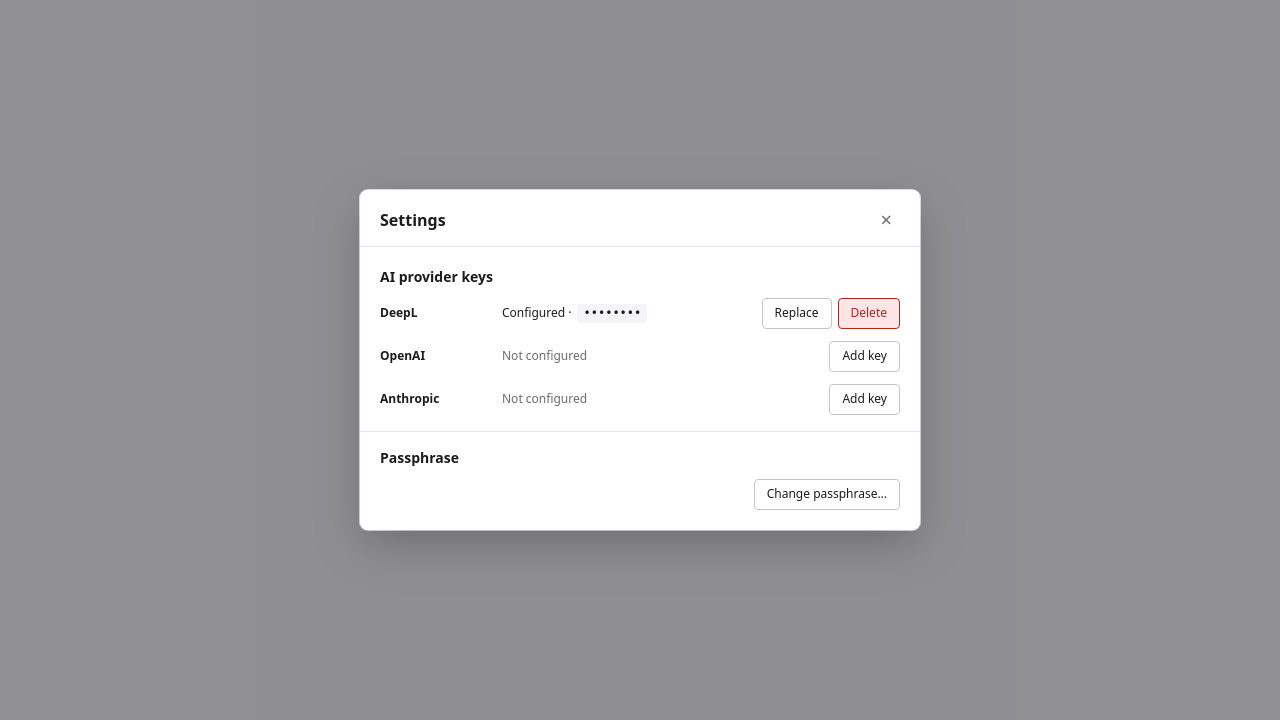
Test case: SettingsModal › shows an inline error when the current passphrase is wrong
expect the element named "DeepL: configured" is shown: met, box x1=502 y1=304 x2=647 y2=323
Click the button "Change passphrase…": point(827, 495) x1=754 y1=479 x2=900 y2=510
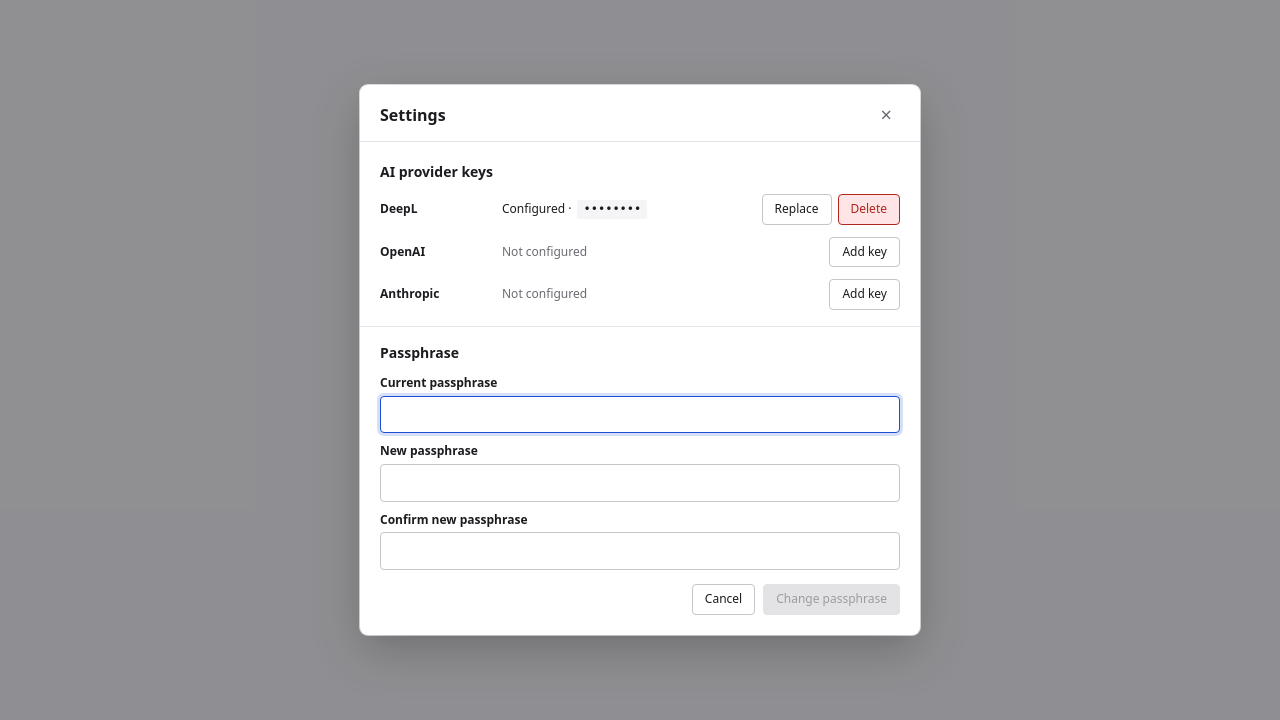
In the password field labelled "Current passphrase": point(640, 414) x1=380 y1=396 x2=900 y2=433, type "wrong-pp"
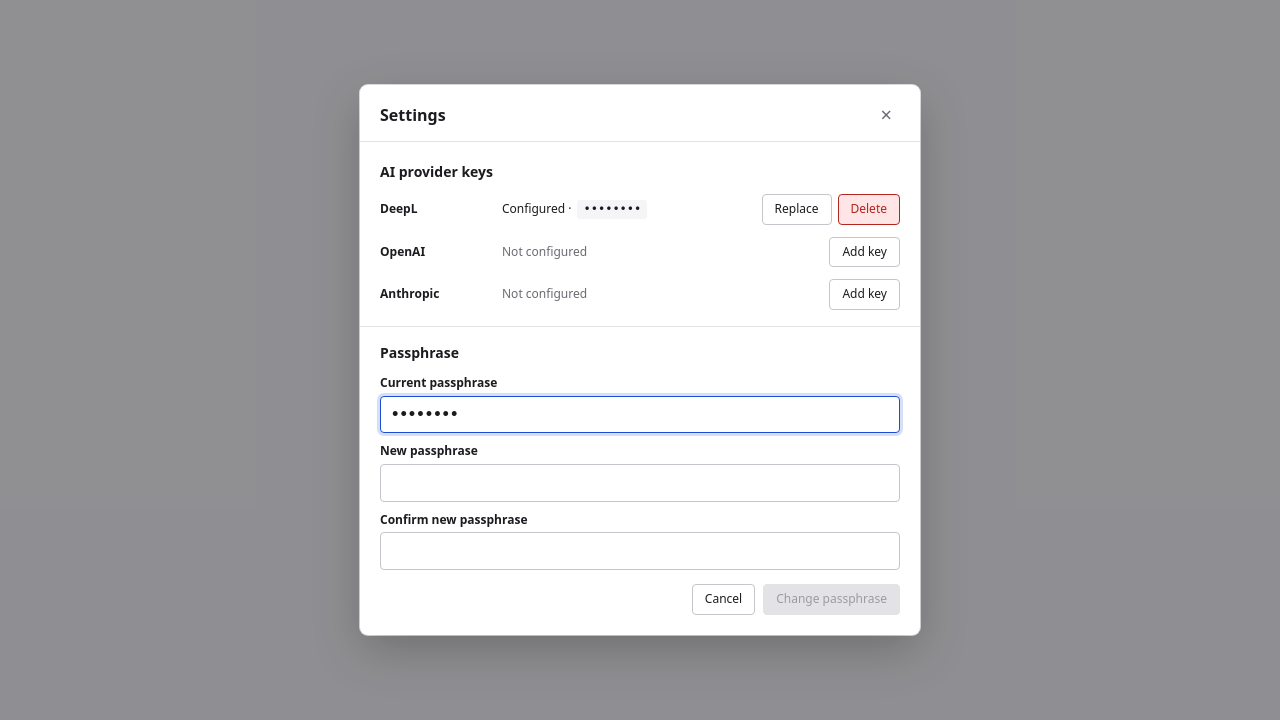
In the password field labelled "New passphrase": point(640, 483) x1=380 y1=464 x2=900 y2=502, type "new-pp"
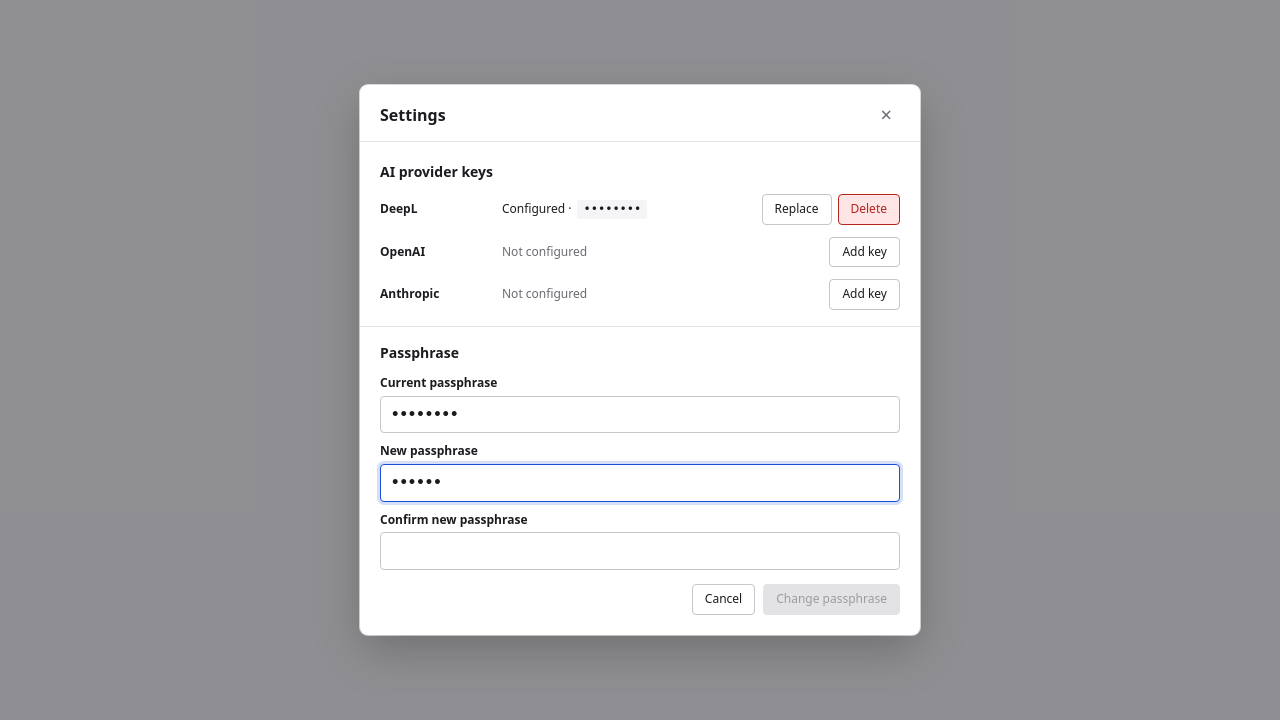
In the password field labelled "Confirm new passphrase": point(640, 551) x1=380 y1=532 x2=900 y2=570, type "new-pp"
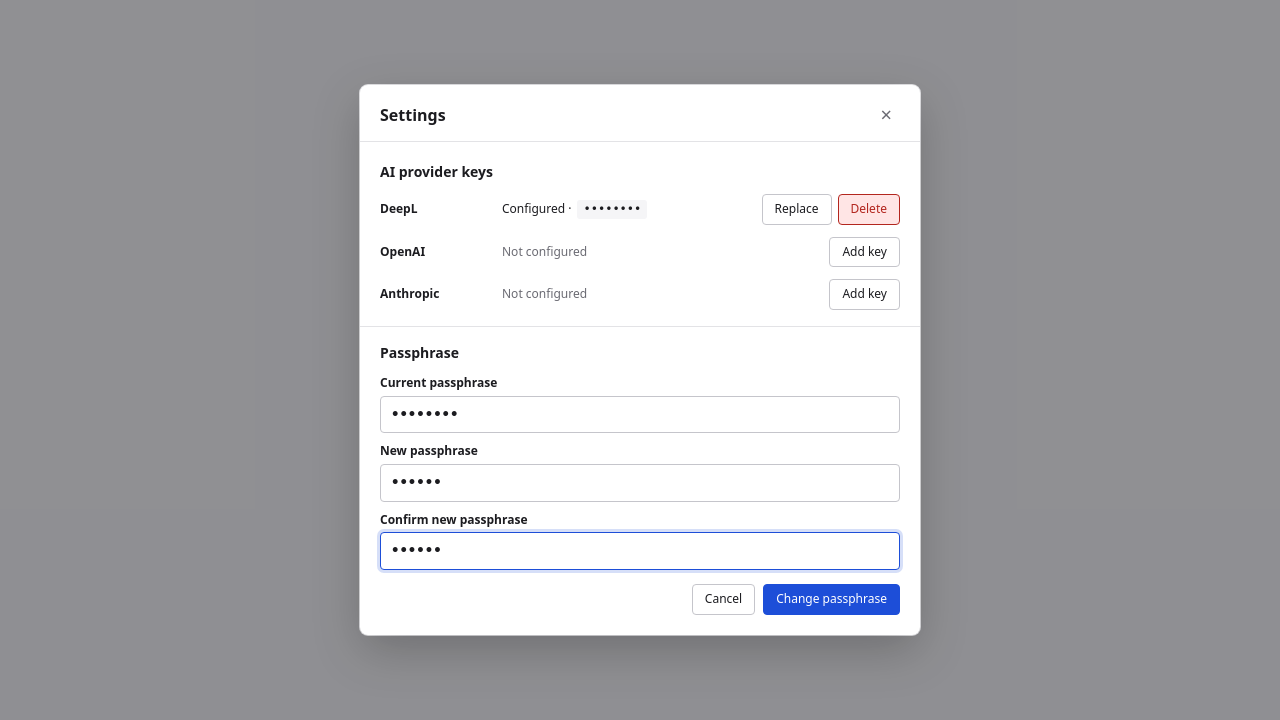
Click the button "Change passphrase": point(832, 599) x1=763 y1=584 x2=900 y2=615
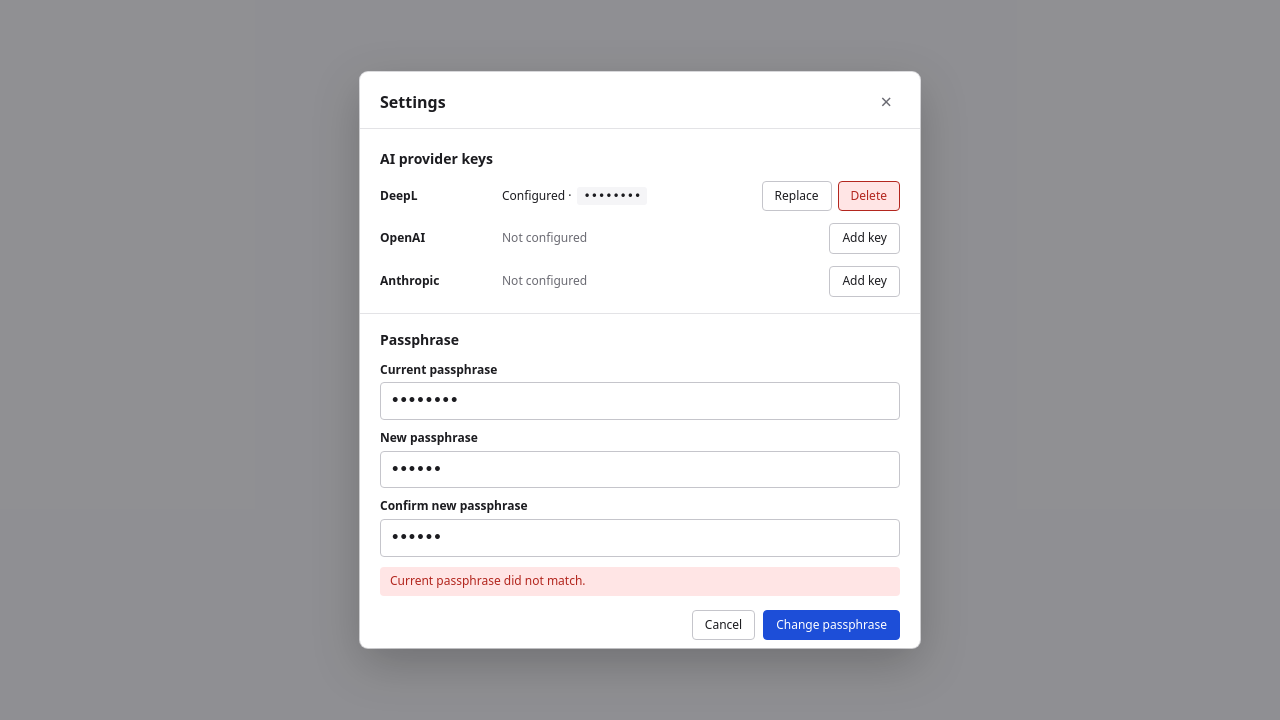
expect the text "Current passphrase did not match." is shown: met, box x1=380 y1=567 x2=900 y2=596
